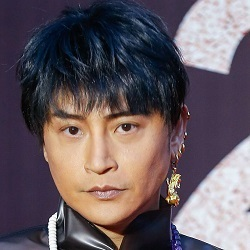unmask: (41, 83, 176, 224)
